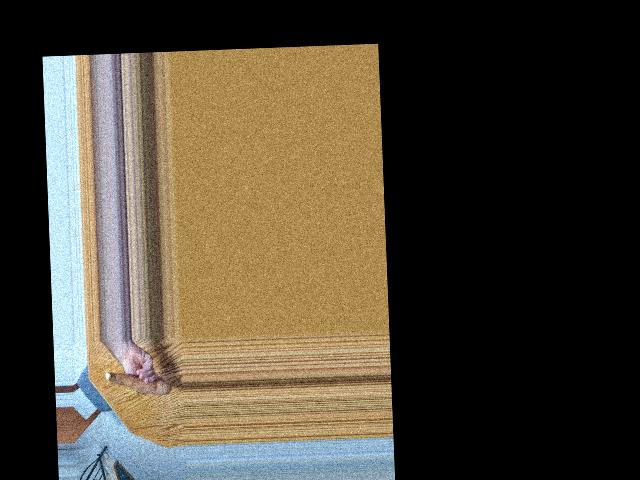sweet_potato: (103, 368, 168, 401)
